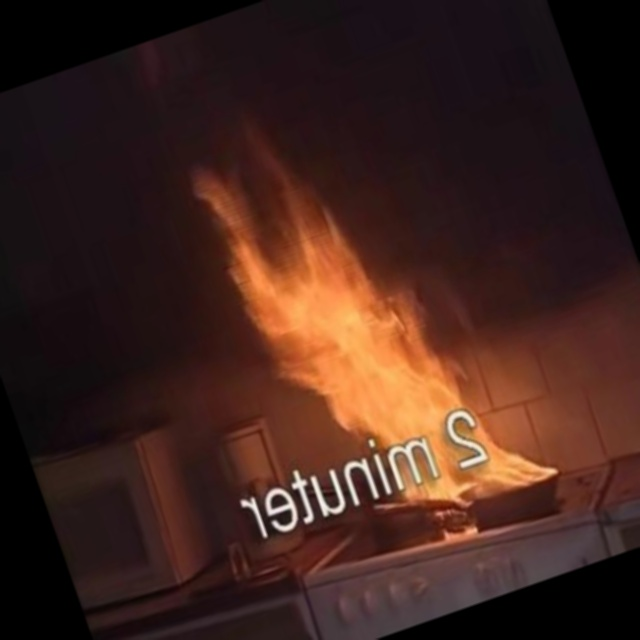fire: (199, 89, 583, 588)
